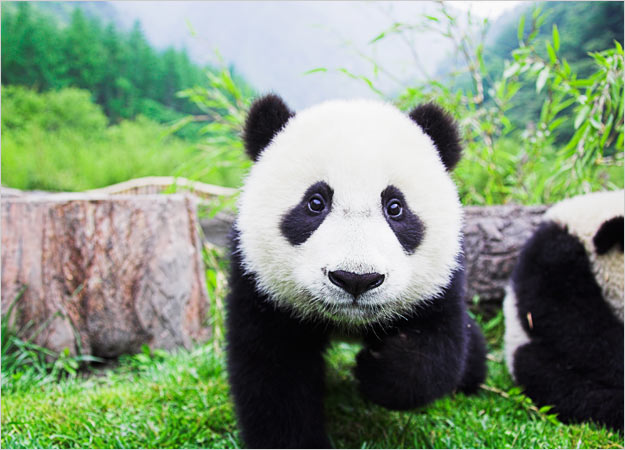panda: (208, 71, 505, 422)
